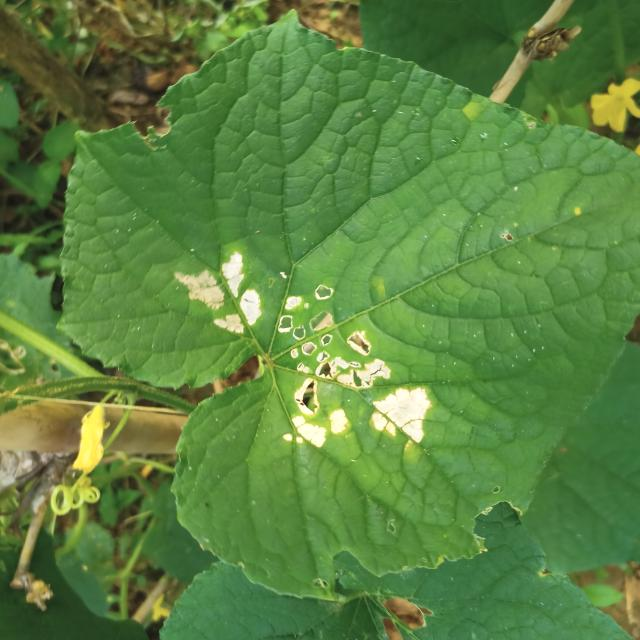disease_cucumber: (279, 268, 434, 463), (170, 239, 272, 346)
